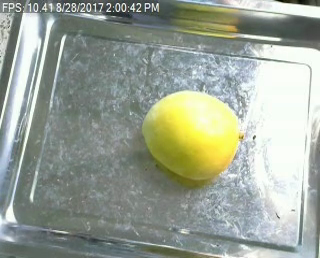Mango: (144, 90, 240, 178)
